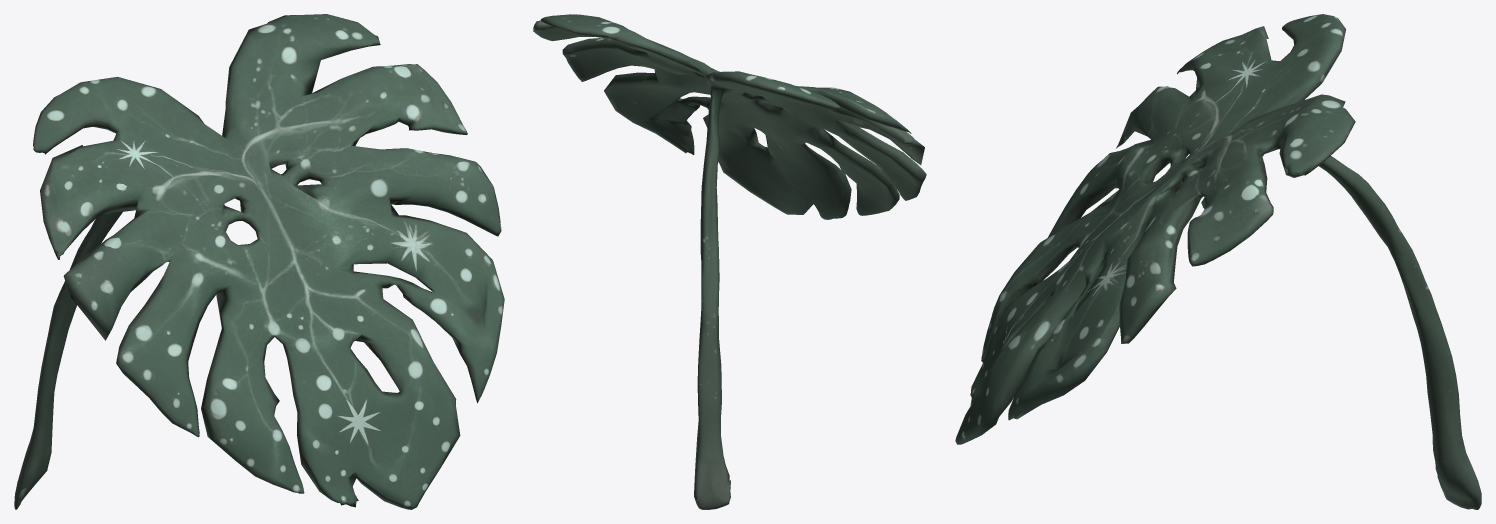
The model's file is mon_galaxy_darkteal_v2.glb.
3 views of the same model, side by side, from view 1: azimuth 30°, elevation 25°; view 2: azimuth 150°, elevation 25°; view 3: azimuth 270°, elevation 25° (orthographic). The views are drawn at different scales.
Visible parts, largest first — view 1: world; view 2: world; view 3: world.
Part boxes in pixels (x1,y1,x2,y2): world: (14, 14, 504, 509); world: (533, 14, 926, 509); world: (955, 14, 1481, 509).
Bounding box in the file's own units: 1.86 × 2 × 1.91.
Materials: 1 (1 with a texture image).
